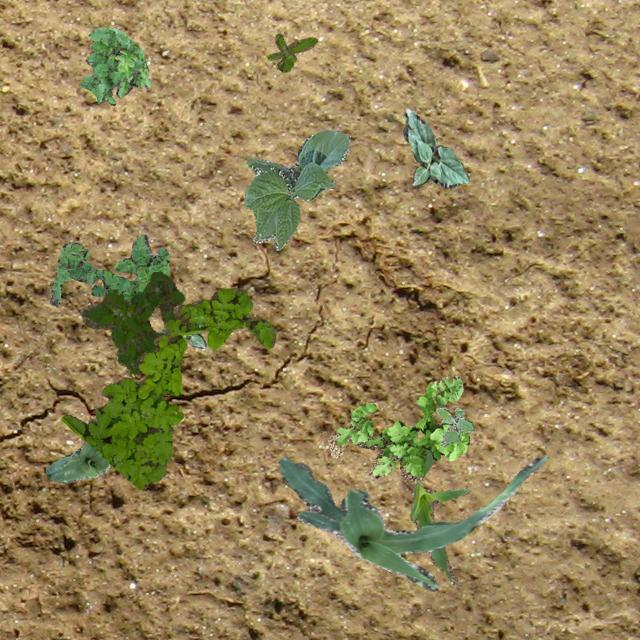crop: (278, 454, 546, 590), (243, 128, 349, 250), (408, 452, 468, 584), (402, 108, 468, 186), (44, 441, 110, 482), (156, 314, 204, 348)
weed: (61, 287, 274, 488), (326, 374, 468, 482), (80, 270, 184, 374), (50, 233, 168, 306), (78, 26, 150, 104), (266, 33, 316, 70), (436, 406, 472, 446)
